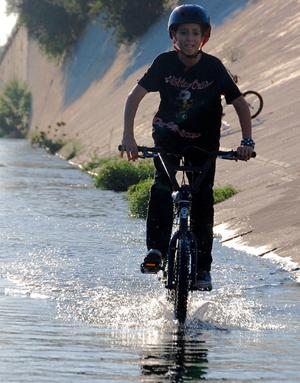person: (120, 5, 254, 289)
